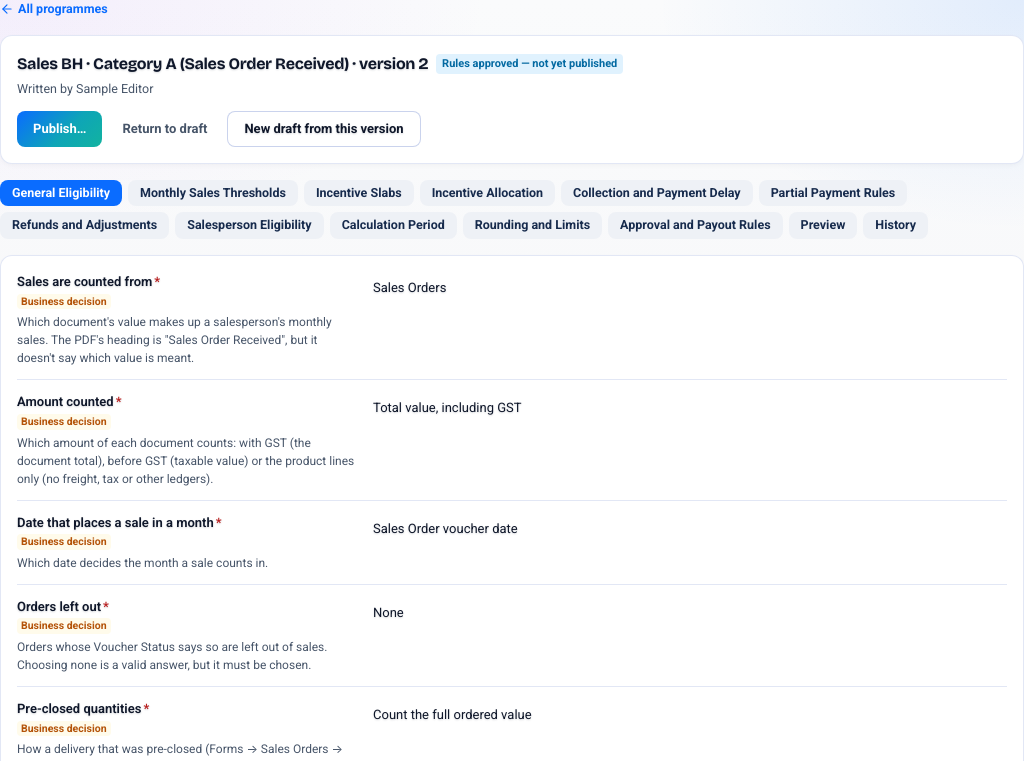
Test: the version editor › publishing: from a month; an earlier month is blocked without the back-dating right
Later steps or results of the test are not shown.
Step 1. Click the button "Publish…" → (60, 128), box [17,110,102,146]
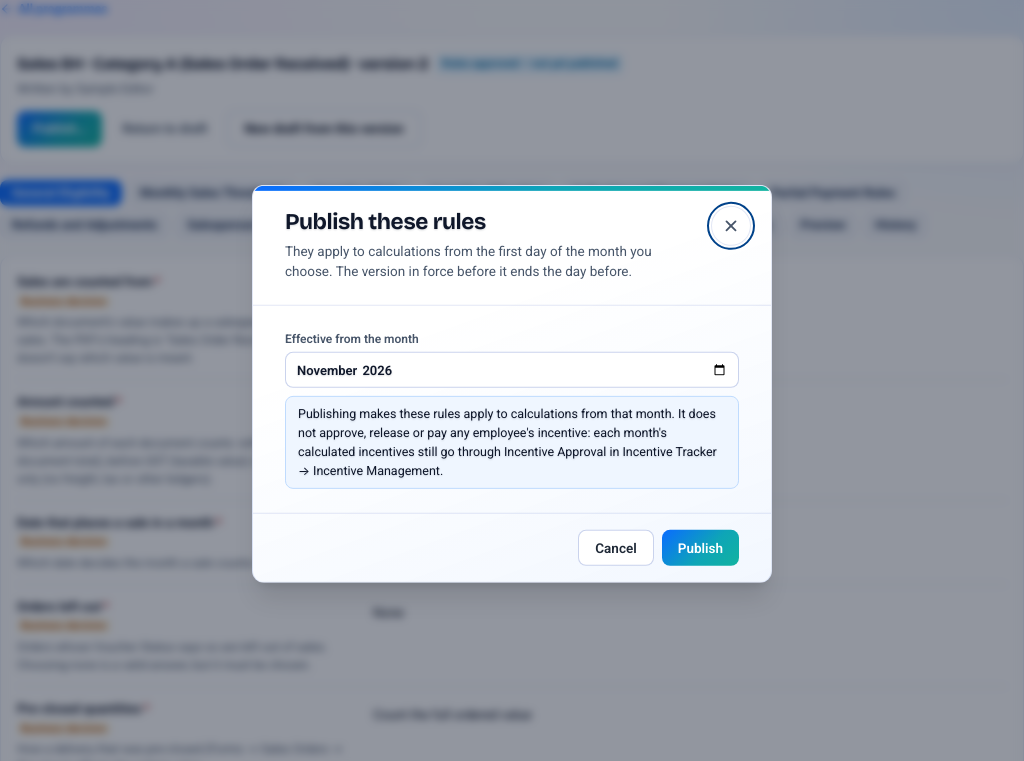
Step 2. Replace the text in the field named "Effective from month" with "2026-10" → (512, 370), box [285,352,739,388]
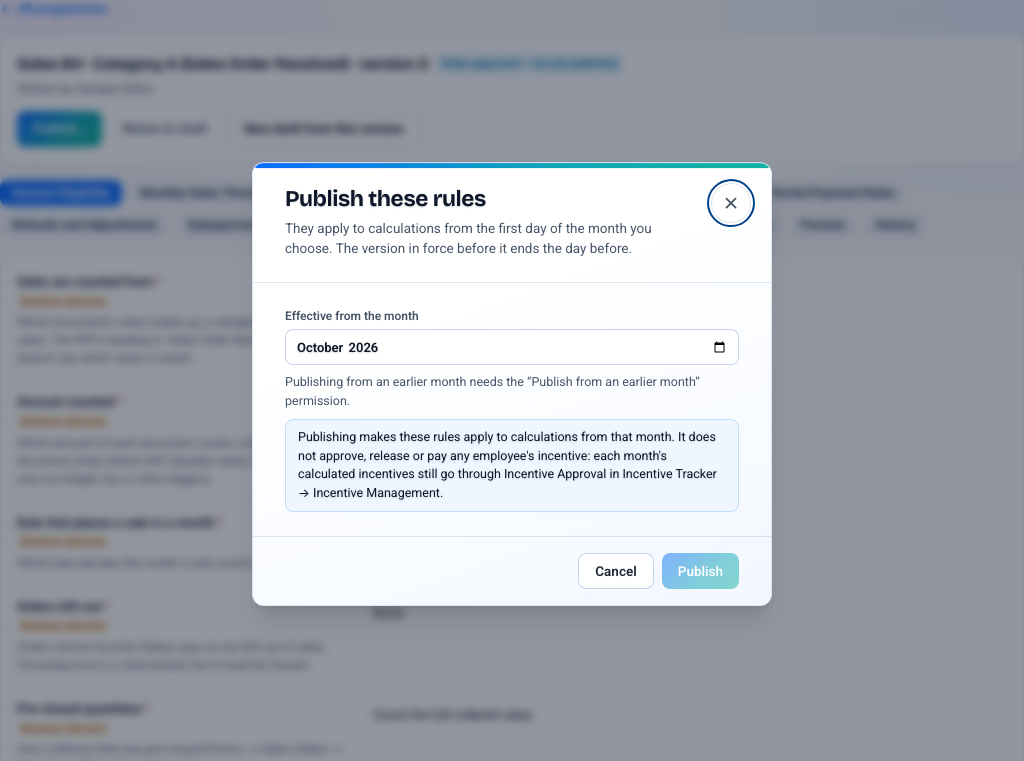
Check: the text "needs the “Publish from an earlier month” permission" is shown, box [285,374,700,408]
Check: the button "Publish" is disabled, box [662,553,739,589]
